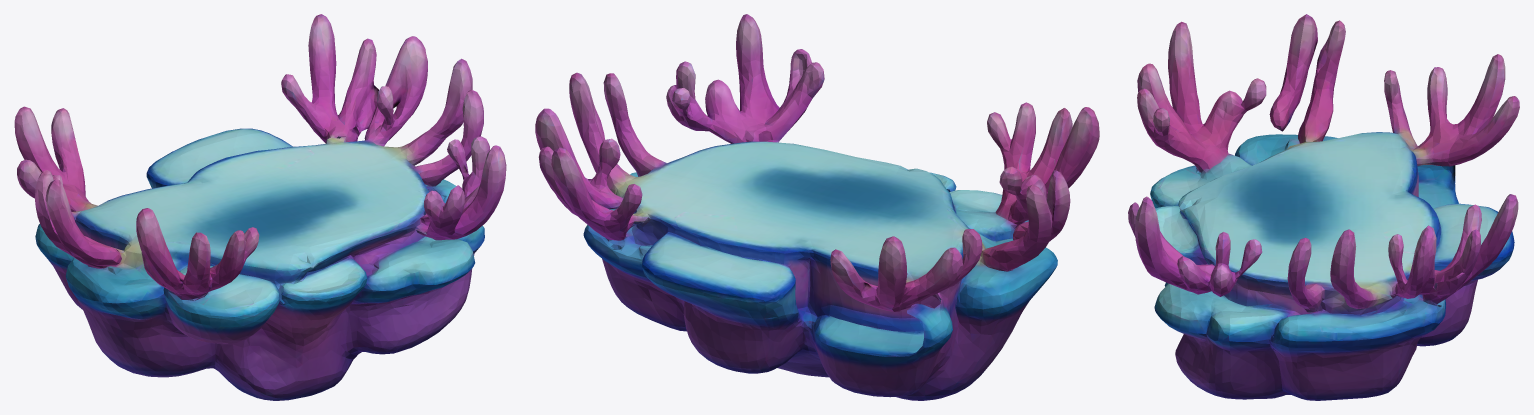
File: coral_floor.glb
3 views of the same model, side by side, from view 1: azimuth 30°, elevation 25°; view 2: azimuth 150°, elevation 25°; view 3: azimuth 270°, elevation 25° (orthographic). The views are drawn at different scales.
Visible parts, largest first — view 1: world; view 2: world; view 3: world.
Boxes of the visible parts, box(x1,y1,x2,y2) form: world: box(14, 14, 506, 400); world: box(535, 14, 1099, 400); world: box(1128, 14, 1519, 400).
Bounding box in the file's own units: 0.997 × 0.5474 × 0.7305.
1 material, 1 textured.
